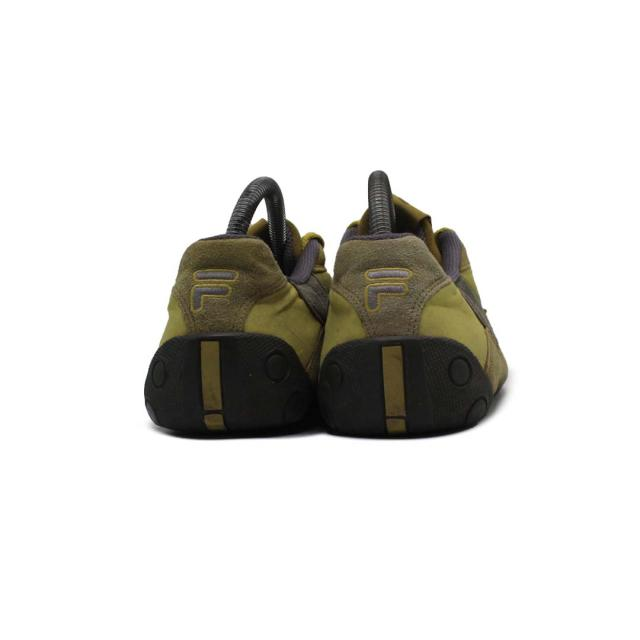heel: (332, 220, 470, 337), (165, 224, 302, 340)
midsole: (155, 333, 489, 439)
